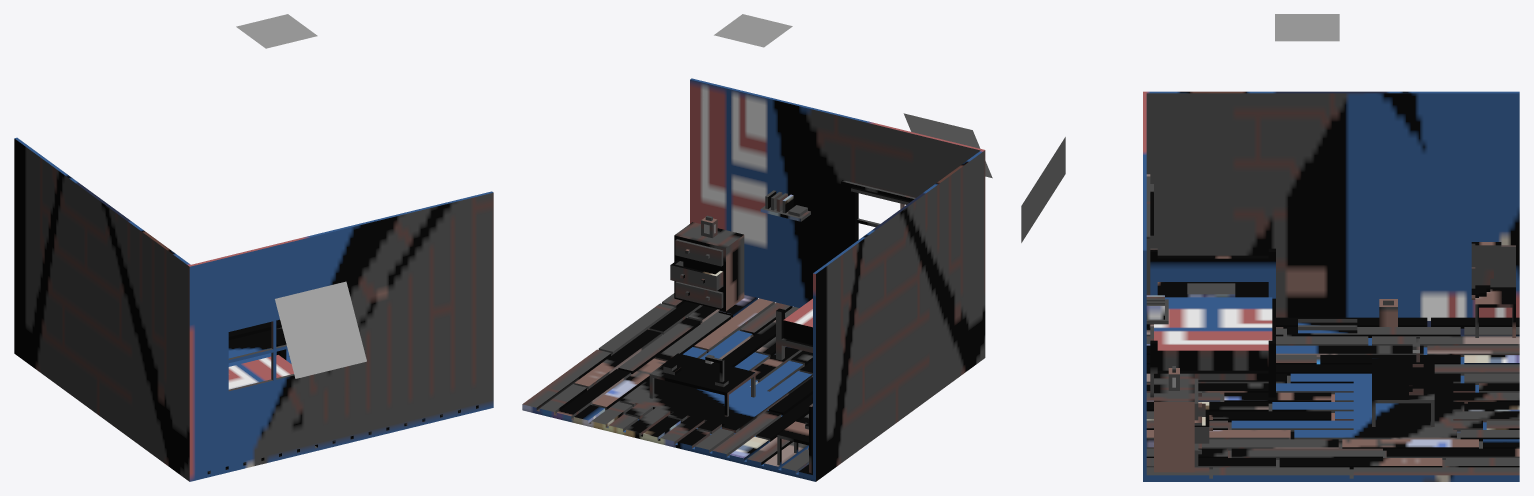
The model's file is room-high.obj.
The picture shows the model from 3 angles, left to right: view 1: azimuth 30°, elevation 25°; view 2: azimuth 150°, elevation 25°; view 3: azimuth 270°, elevation 25°; orthographic projection. The views are drawn at different scales.
Parts seen in each view (by area): view 1: bedroom.merged_Plane-tex, Plane, Plane.001; view 2: bedroom.merged_Plane-tex, Plane.001, Plane; view 3: bedroom.merged_Plane-tex, Plane.001, Plane.
Boxes of the visible parts, bbox=[...] form: bedroom.merged_Plane-tex: bbox=[14, 137, 493, 481]; Plane: bbox=[275, 281, 366, 378]; Plane.001: bbox=[236, 14, 317, 48]; bedroom.merged_Plane-tex: bbox=[522, 78, 985, 481]; Plane.001: bbox=[714, 14, 792, 47]; Plane: bbox=[903, 113, 992, 178]; bedroom.merged_Plane-tex: bbox=[1143, 91, 1519, 481]; Plane.001: bbox=[1275, 14, 1339, 41]; Plane: bbox=[1021, 137, 1065, 242].
Size of the model in its own units: 102 by 114 by 135.
Materials: 5 (1 with a texture image).
